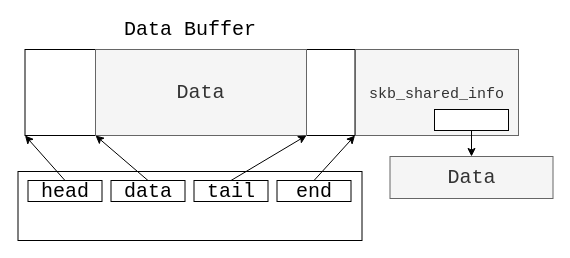
Some shapes in this 570 by 258 pixel diagram are drawn without their labels. Each missing label, with the box of its shape:
page: (434, 108, 508, 130)
sk_buff: (17, 170, 362, 240)
